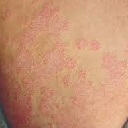Psoriasis: (1, 42, 71, 110), (102, 53, 128, 91)
